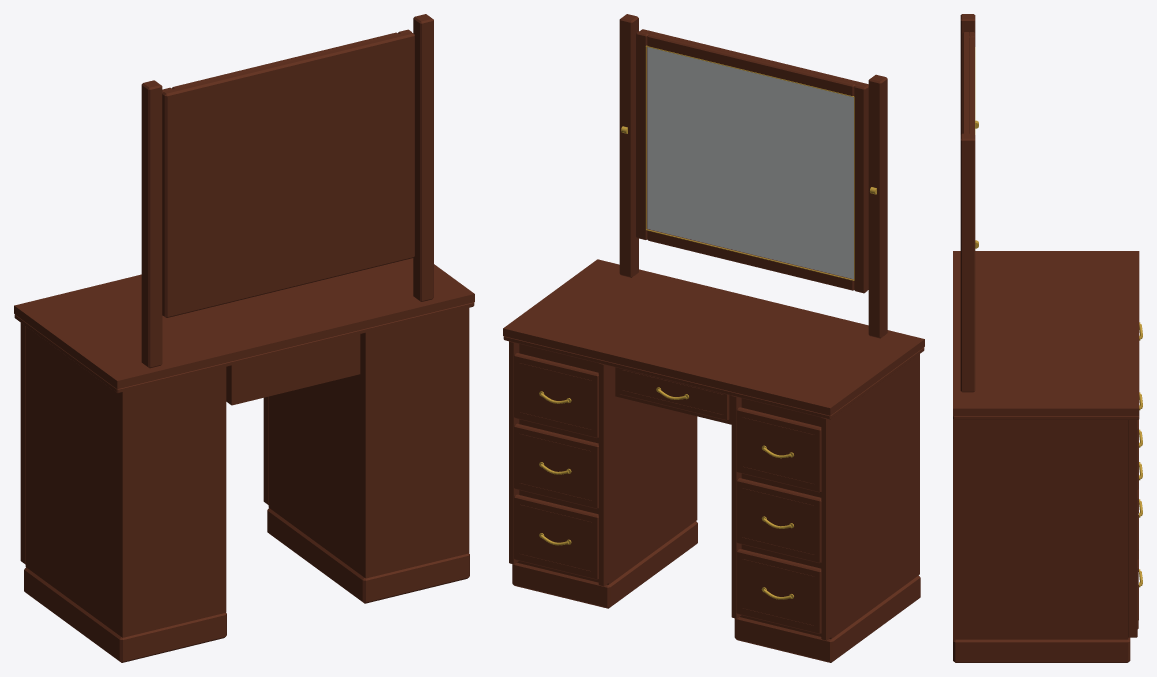
File: parametric-dressing_table-2nd.glb
The picture shows the model from 3 angles, left to right: view 1: azimuth 30°, elevation 25°; view 2: azimuth 150°, elevation 25°; view 3: azimuth 270°, elevation 25°; orthographic projection. The views are drawn at different scales.
Parts seen in each view (by area): view 1: parametric-dressing_table-2nd; view 2: parametric-dressing_table-2nd; view 3: parametric-dressing_table-2nd.
Boxes of the visible parts, <box> form: parametric-dressing_table-2nd: <box>14,14,474,662</box>; parametric-dressing_table-2nd: <box>503,14,924,662</box>; parametric-dressing_table-2nd: <box>953,14,1142,662</box>.
Size of the model in its own units: 1 by 1.51 by 0.5093.
